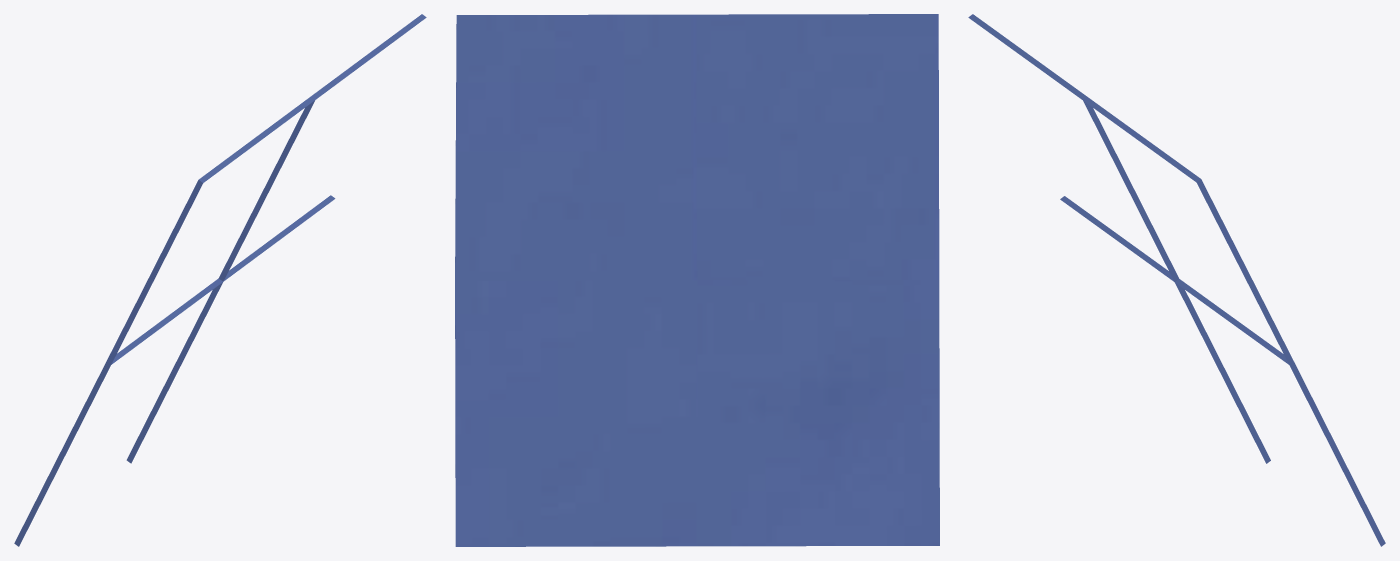
3 renders of one model, left to right at view 1: azimuth 30°, elevation 25°; view 2: azimuth 150°, elevation 25°; view 3: azimuth 270°, elevation 25°, orthographic. The views are drawn at different scales.
Size of the model in its own units: 19668 by 17837 by 16411.
Materials: 1 (1 with a texture image).
